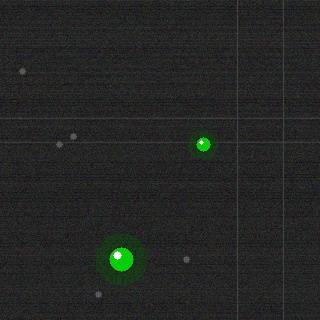green_normal: (107, 245, 135, 273), (194, 135, 212, 153)
